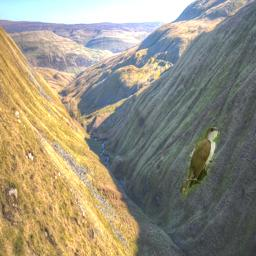Cuckoo: (180, 127, 220, 206)
